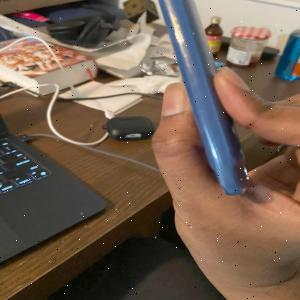Diamond-E-Ciggirate: (153, 0, 256, 197)
